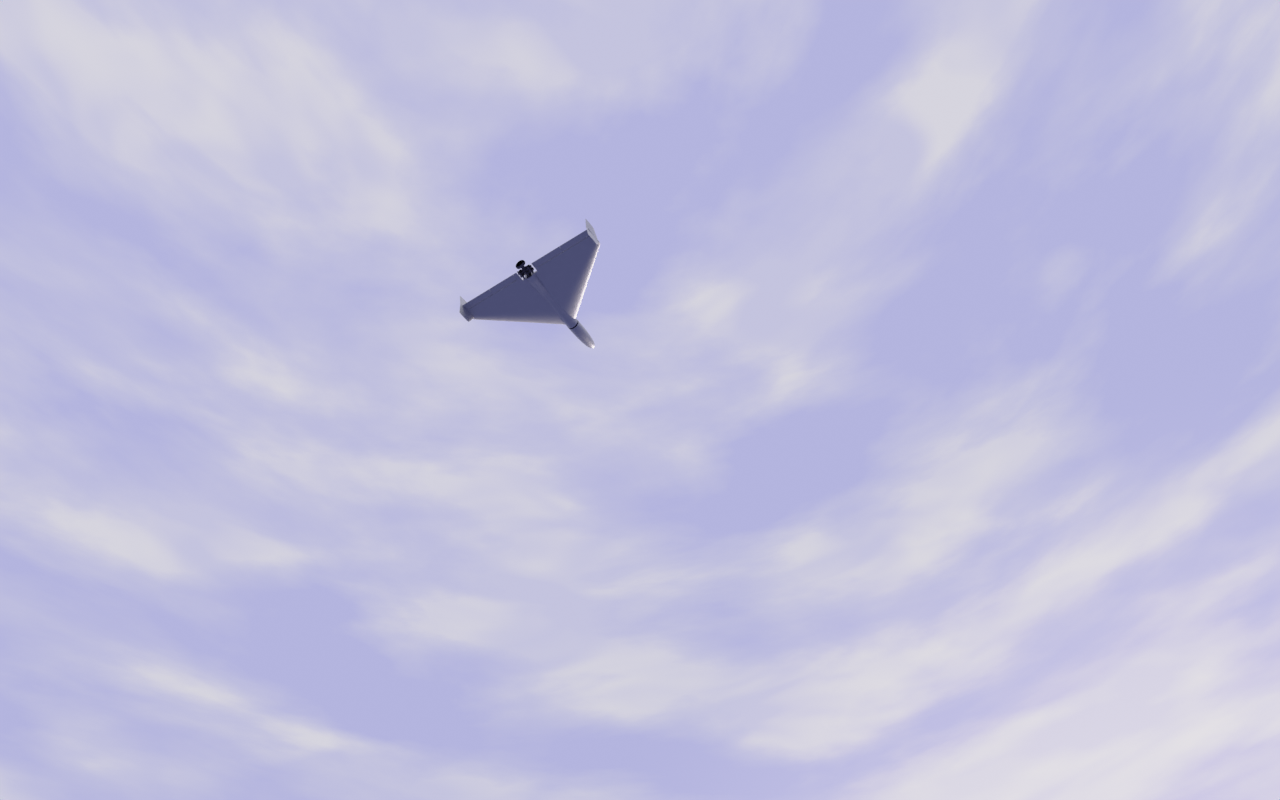shahed: (459, 219, 602, 350)
